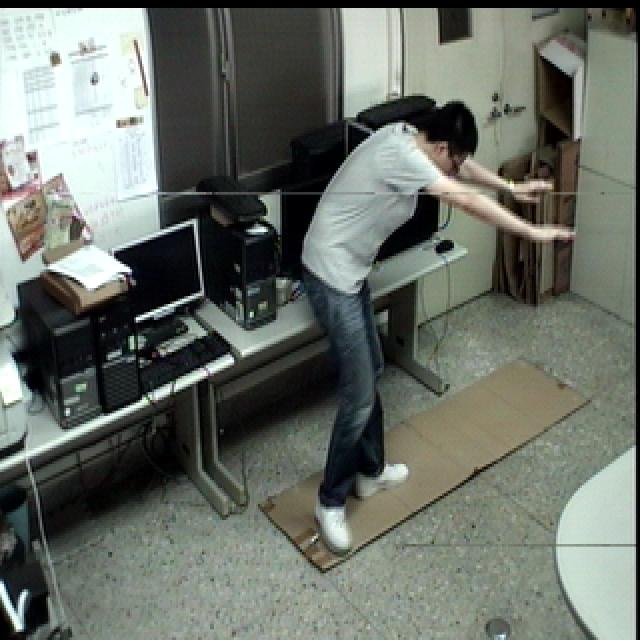bend: (291, 90, 580, 562)
